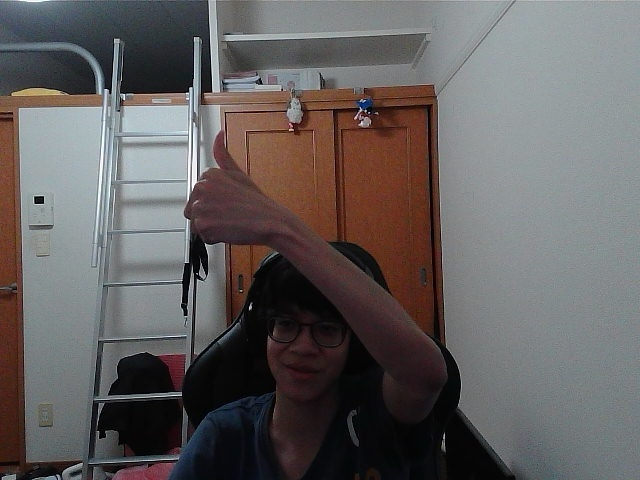thumb_up: (192, 137, 268, 236)
